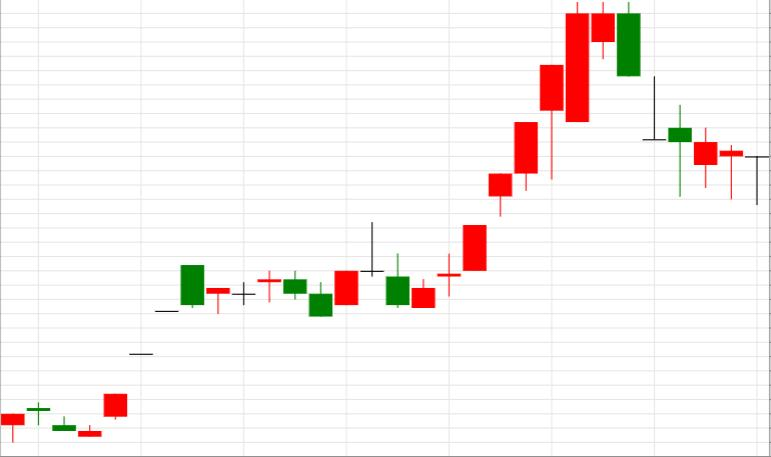hanging_man_fall: (412, 65, 564, 308)
